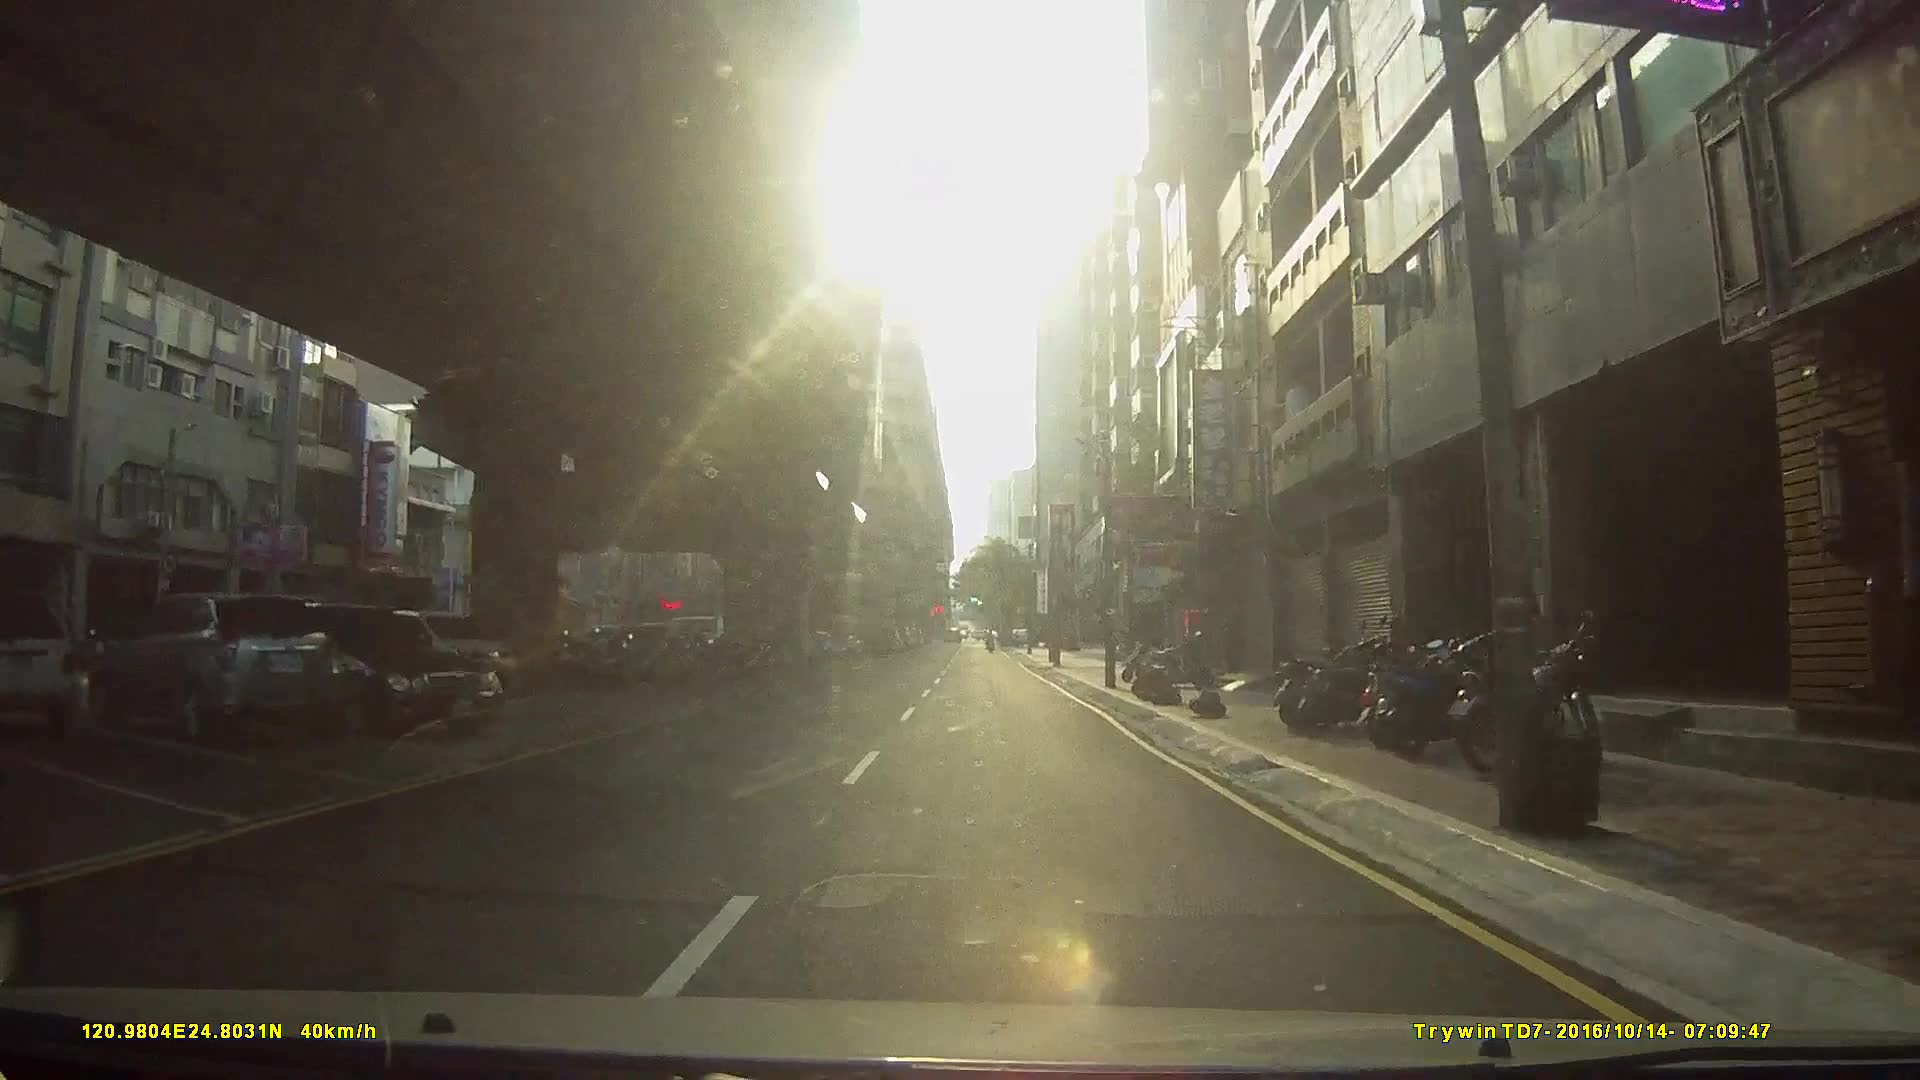vehicle: (84, 588, 342, 744), (232, 603, 501, 736), (0, 589, 79, 731)
